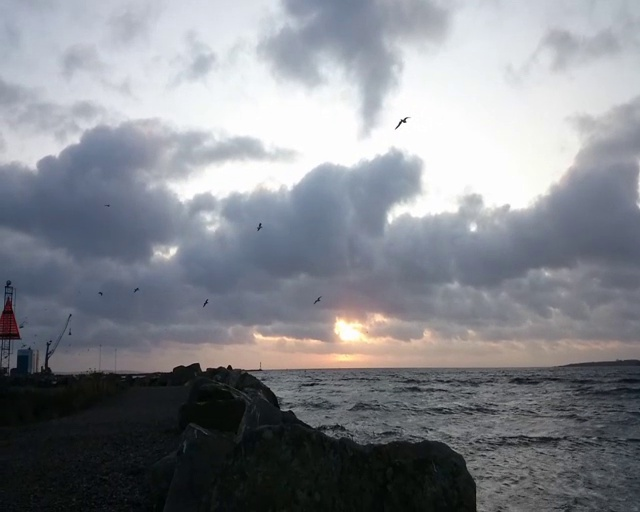BIRD: (313, 295, 322, 304)
